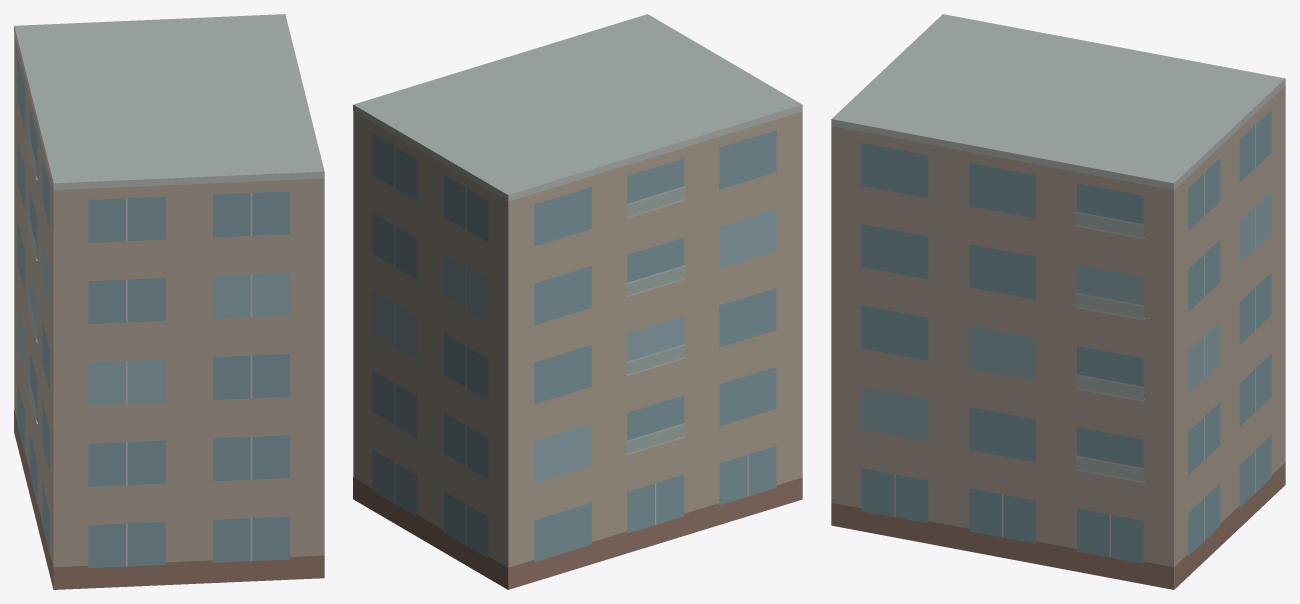
Rendered from survey-upis-32534777.glb.
The picture shows the model from 3 angles, left to right: view 1: azimuth 30°, elevation 25°; view 2: azimuth 150°, elevation 25°; view 3: azimuth 270°, elevation 25°; orthographic projection. The views are drawn at different scales.
Visible parts, largest first — view 1: survey-upis-32534777.tmp; view 2: survey-upis-32534777.tmp; view 3: survey-upis-32534777.tmp.
Part boxes in pixels (x1,y1,x2,y2): survey-upis-32534777.tmp: (14,14,324,589); survey-upis-32534777.tmp: (353,14,802,589); survey-upis-32534777.tmp: (831,14,1285,589).
Size of the model in its own units: 12.97 by 14.5 by 14.69.
